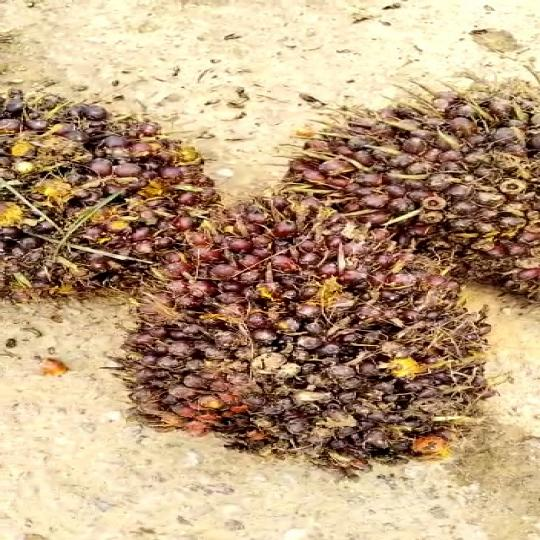kurang masak: (82, 195, 504, 473), (283, 90, 540, 300), (0, 83, 207, 328)
